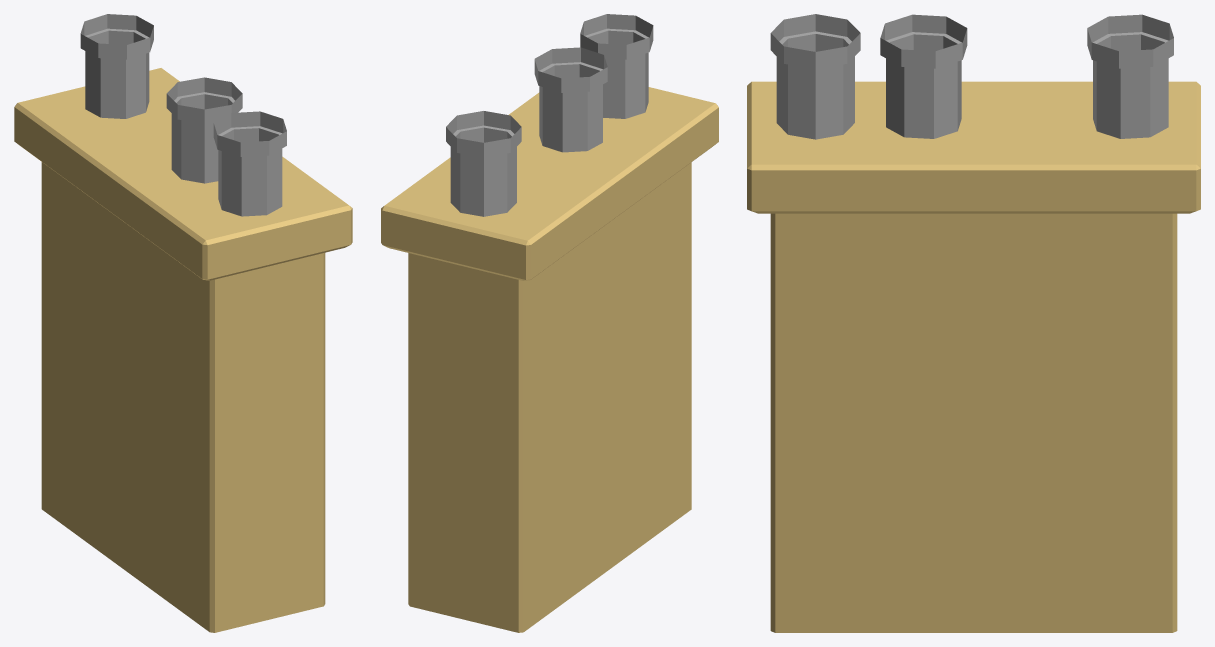
File: cheminee_SHD.fbx
3 views of the same model, side by side, from view 1: azimuth 30°, elevation 25°; view 2: azimuth 150°, elevation 25°; view 3: azimuth 270°, elevation 25° (orthographic). The views are drawn at different scales.
Parts seen in each view (by area): view 1: roof_props_b; view 2: roof_props_b; view 3: roof_props_b.
Part boxes in pixels (x1,y1,x2,y2): roof_props_b: (14,14,352,632); roof_props_b: (381,14,718,632); roof_props_b: (747,14,1200,632).
Bounding box in the file's own units: 138 × 422 × 306.
